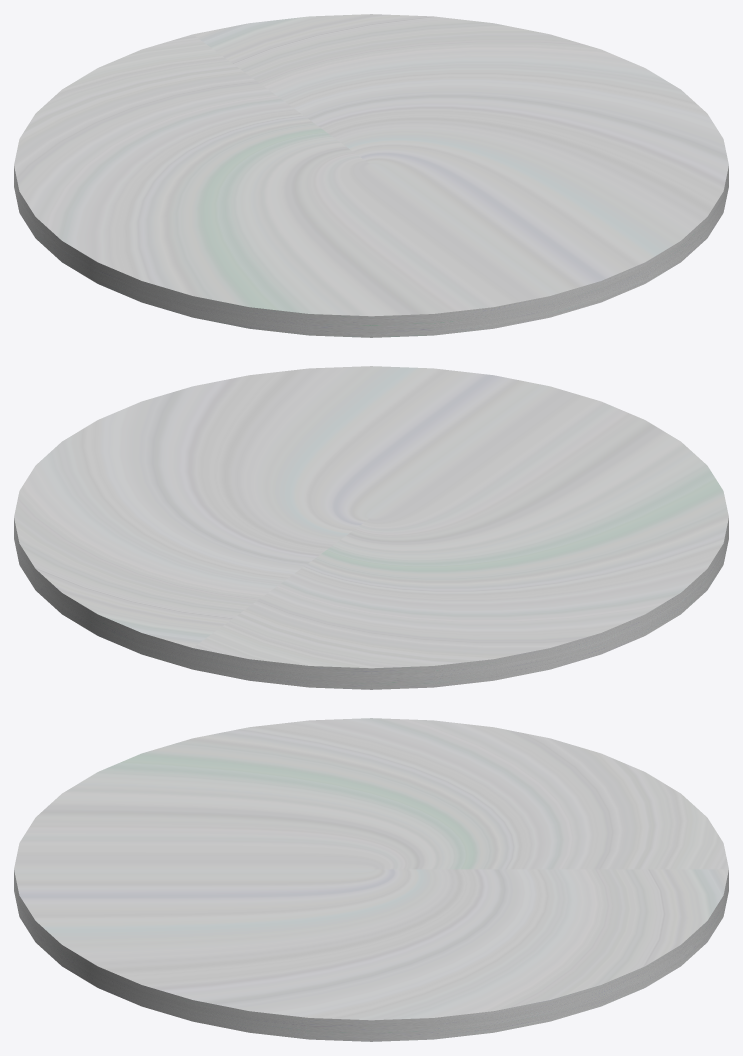
The model's file is Filter.FBX.
3 views of the same model, one above another, from view 1: azimuth 30°, elevation 25°; view 2: azimuth 150°, elevation 25°; view 3: azimuth 270°, elevation 25° (orthographic).
Parts seen in each view (by area): view 1: Cylinder001; view 2: Cylinder001; view 3: Cylinder001.
Boxes of the visible parts, box(x1,y1,x2,y2) form: Cylinder001: box(14, 14, 728, 337); Cylinder001: box(14, 366, 728, 689); Cylinder001: box(14, 718, 728, 1041).
Bounding box in the file's own units: 30 × 1 × 30.
Materials: 1 (1 with a texture image).
